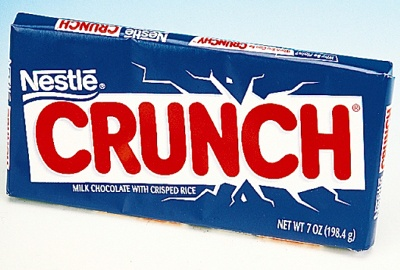grozi_50: (5, 11, 394, 256)
